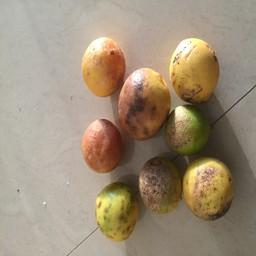Bad_lime: (118, 66, 169, 144), (182, 156, 236, 221), (170, 36, 220, 101), (81, 35, 126, 99), (137, 156, 182, 218), (81, 116, 126, 175), (94, 185, 139, 243), (167, 101, 213, 156)
